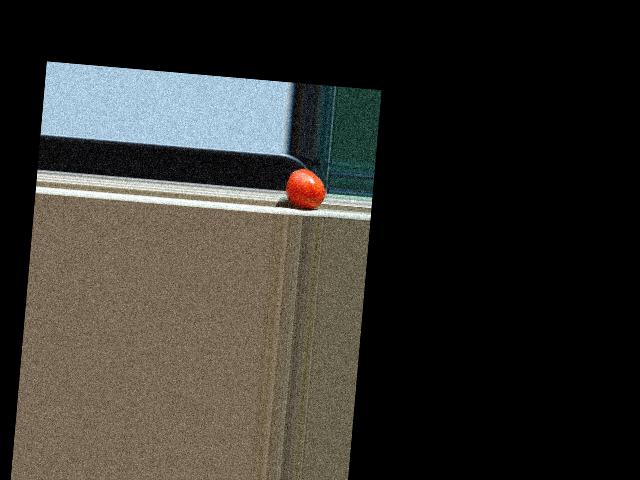tomato: (284, 167, 327, 209)
